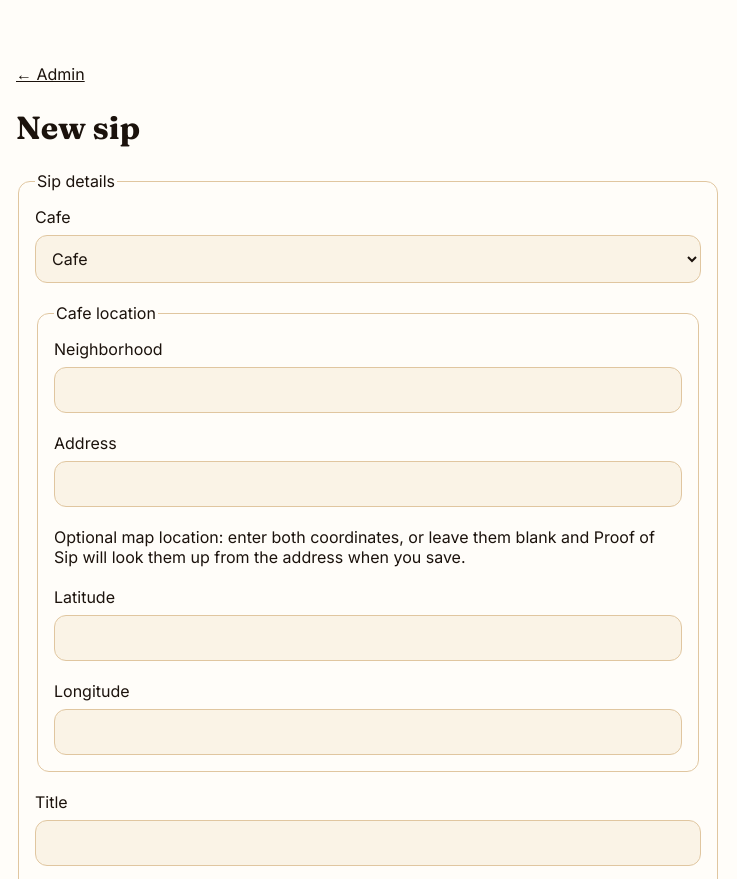
Test: sip form › submits numeric ratings and retains writing after a failed save
This screenshot has width=737, height=879.
Type "Keep my title" into the field labelled "Title" at coordinates (368, 843), box x1=35 y1=820 x2=701 y2=866
(page scrolled)
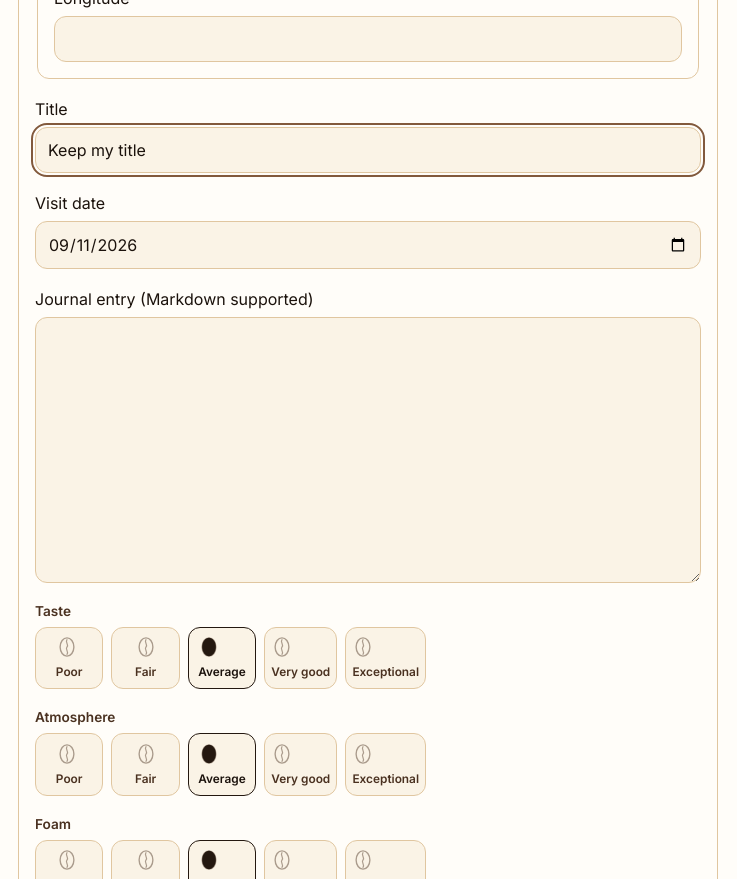
Type "Keep my writing" into the text box labelled "Journal entry (Markdown supported)" at coordinates (368, 450), box x1=35 y1=317 x2=701 y2=583
(page scrolled)
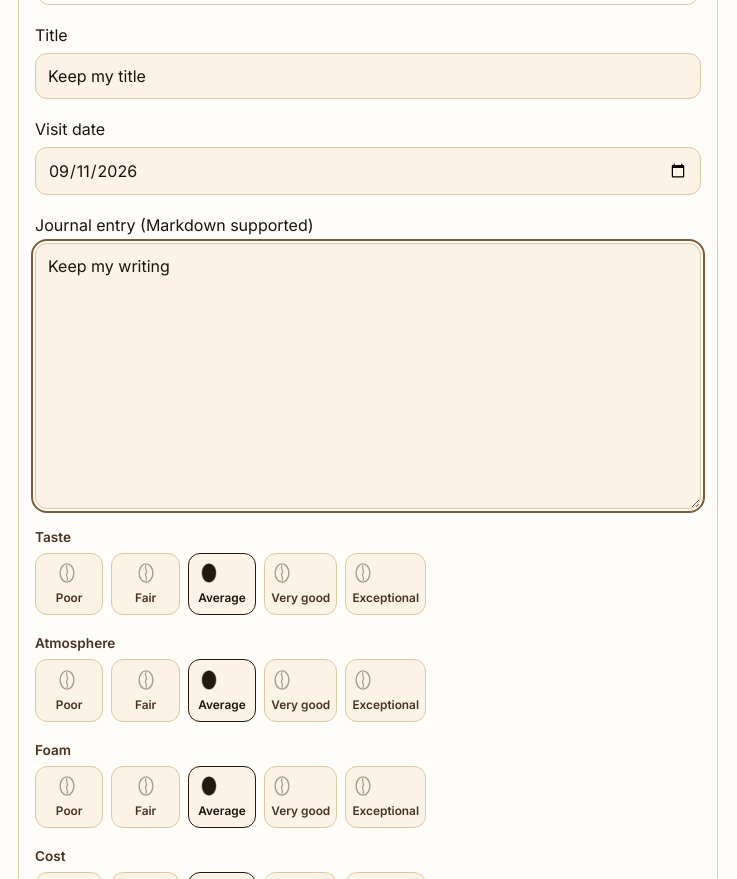
Submit the form named "Save sip"
(page scrolled)
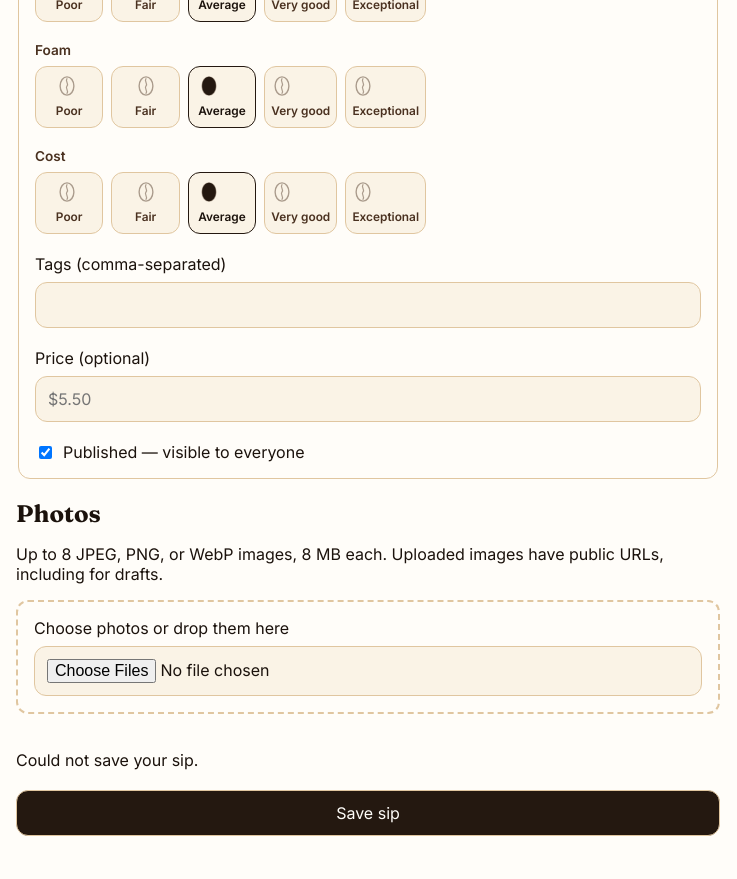
expect the button "Save sip" is enabled: met, box x1=16 y1=790 x2=720 y2=836
expect the message shows "Could not save": met, box x1=16 y1=750 x2=198 y2=770
